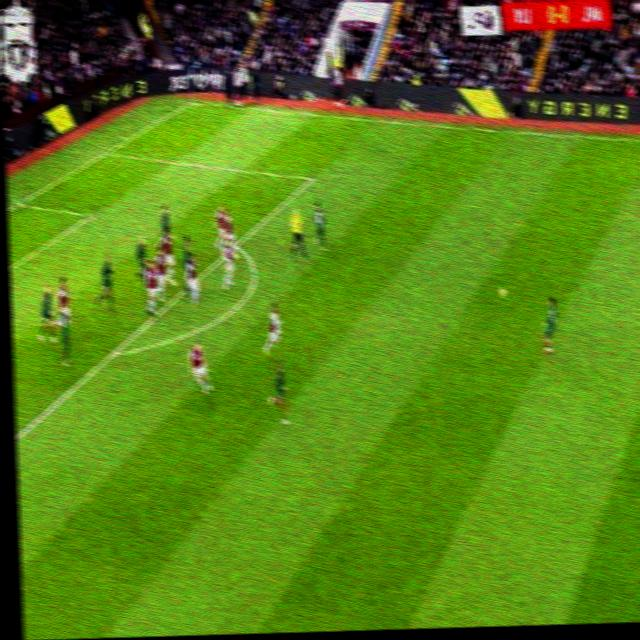bigarea_top_inner: (304, 170, 316, 184)
bigarea_top_outter: (99, 147, 112, 159)
bottom_arc_area_intersection: (107, 343, 123, 362)
corner: (185, 96, 198, 106)
smallarea_top_inner: (85, 205, 98, 222)
smallarea_top_outter: (13, 197, 26, 210)
top_arc_area_intersection: (231, 240, 242, 251)
